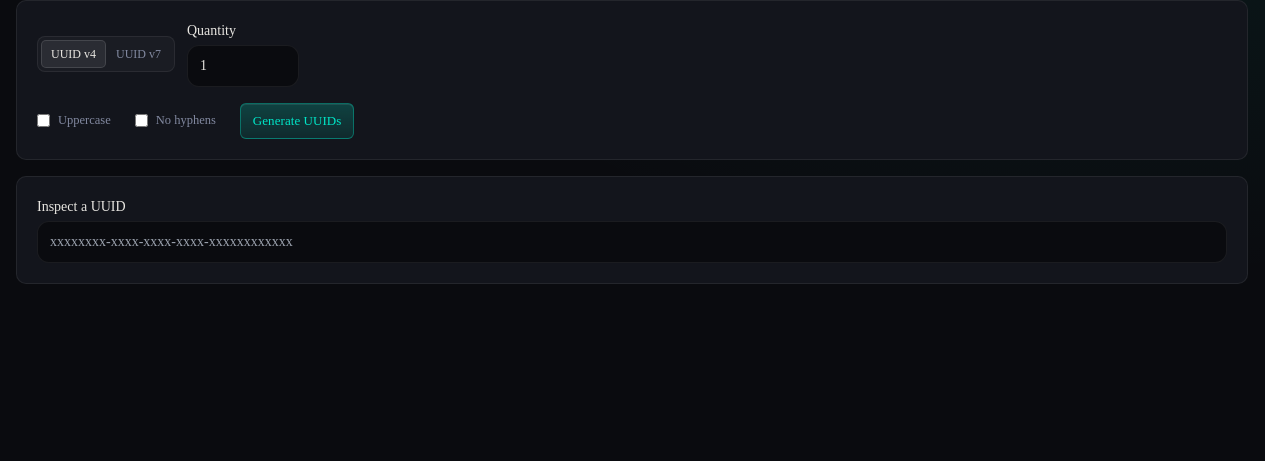
Test: UuidGeneratorClient › inspects v7 timestamps and malformed input
Step 1. Type "018bcfe5-6800-7000-8000-000000000000" into the field labelled "Inspect a UUID" → x=632, y=242, box 37,220 -> 1227,262
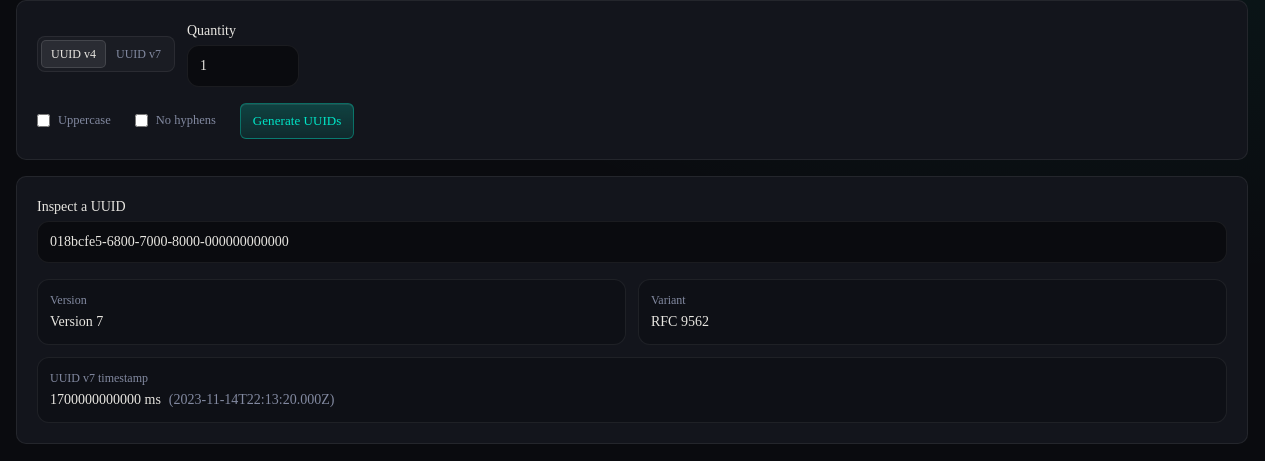
Expected: the text "Version 7" is shown, 50,314 -> 103,328
Expected: the text "1700000000000 ms(2023-11-14T22:13:20.000Z)" is shown, 50,392 -> 334,406
Step 2. Replace the text in the field labelled "Inspect a UUID" with "invalid" → x=632, y=242, box 37,220 -> 1227,262
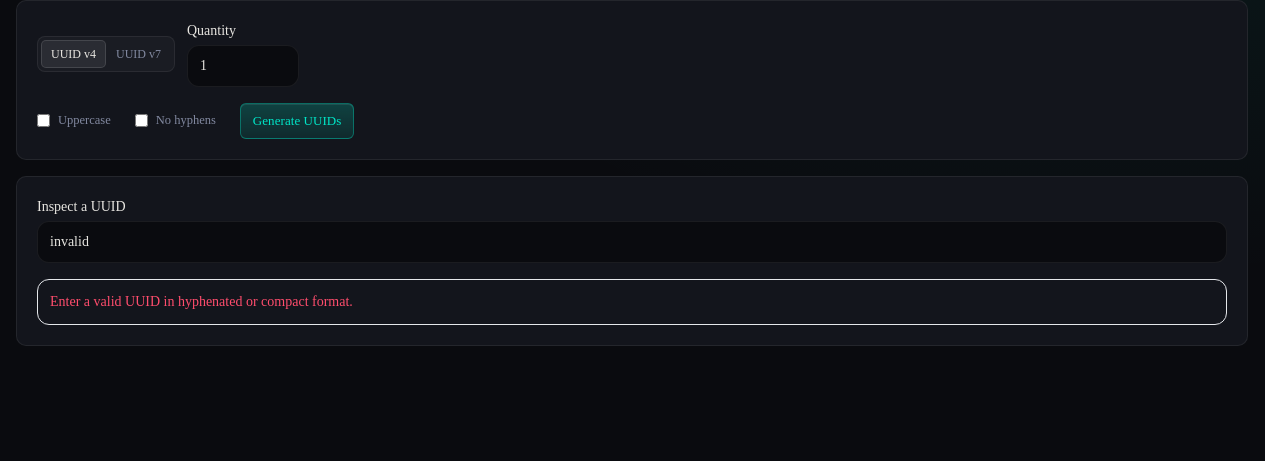
Expected: the message shows "Enter a valid UUID", 50,294 -> 353,308
